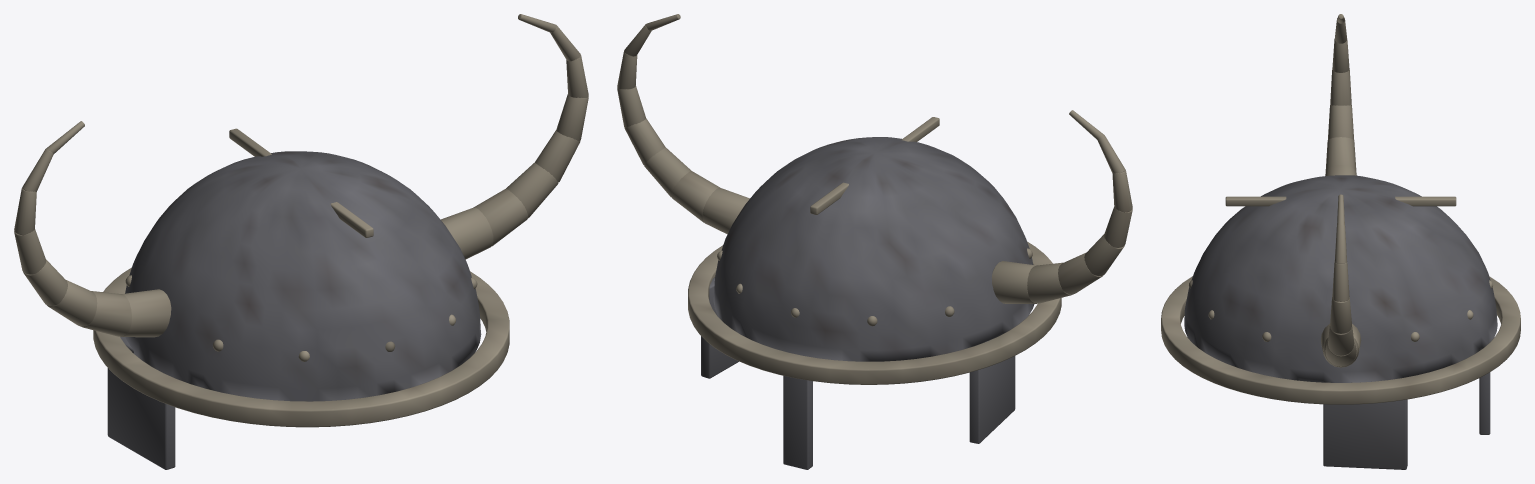
File: head_horn.glb
3 views of the same model, side by side, from view 1: azimuth 30°, elevation 25°; view 2: azimuth 150°, elevation 25°; view 3: azimuth 270°, elevation 25° (orthographic). The views are drawn at different scales.
Visible parts, largest first — view 1: Sphere, Cylinder, Cube.001, Cone, Cone.008, Cone.009, Cone.001, Cone.010, Cone.002, Cone.011, Cube.003, Cone.003 (+5 smaller); view 2: Sphere, Cylinder, Cube.001, Cube, Cone, Cone.008, Cone.009, Cone.001, Cone.010, Cone.002, Cube.002, Cone.011 (+6 smaller); view 3: Sphere, Cylinder, Cube.002, Cube.003, Cone.002, Cone.003, Cube, Cone.004, Cone.012, Cone.013, Cone.011, Cone.005 (+2 smaller).
Boxes of the visible parts, <box> form: Sphere: <box>125,151,481,401</box>; Cylinder: <box>93,267,509,427</box>; Cube.001: <box>107,337,175,469</box>; Cone: <box>121,289,171,337</box>; Cone.008: <box>440,207,493,259</box>; Cone.009: <box>473,189,528,246</box>; Cone.001: <box>81,291,131,336</box>; Cone.010: <box>506,162,558,218</box>; Cone.002: <box>47,280,97,326</box>; Cone.011: <box>535,130,580,182</box>; Cube.003: <box>229,128,373,237</box>; Cone.003: <box>23,259,67,305</box>; Sphere: <box>713,137,1034,361</box>; Cylinder: <box>688,241,1061,384</box>; Cube.001: <box>969,341,1015,443</box>; Cube: <box>783,376,812,469</box>; Cone: <box>991,261,1036,303</box>; Cone.008: <box>702,188,749,234</box>; Cone.009: <box>671,171,720,222</box>; Cone.001: <box>1027,262,1071,303</box>; Cone.010: <box>644,147,691,197</box>; Cone.002: <box>1058,252,1103,294</box>; Cube.002: <box>701,277,738,378</box>; Cone.011: <box>624,118,665,164</box>; Sphere: <box>1184,175,1497,382</box>; Cylinder: <box>1161,276,1520,404</box>; Cube.002: <box>1323,399,1407,469</box>; Cube.003: <box>1225,196,1456,206</box>; Cone.002: <box>1325,137,1356,172</box>; Cone.003: <box>1327,105,1354,140</box>; Cube: <box>1479,372,1490,434</box>; Cone.004: <box>1330,70,1351,105</box>; Cone.012: <box>1330,297,1351,333</box>; Cone.013: <box>1332,262,1349,301</box>; Cone.011: <box>1328,325,1354,355</box>; Cone.005: <box>1332,39,1349,72</box>.
Bounding box in the file's own units: 4.09 × 2.65 × 2.65.
